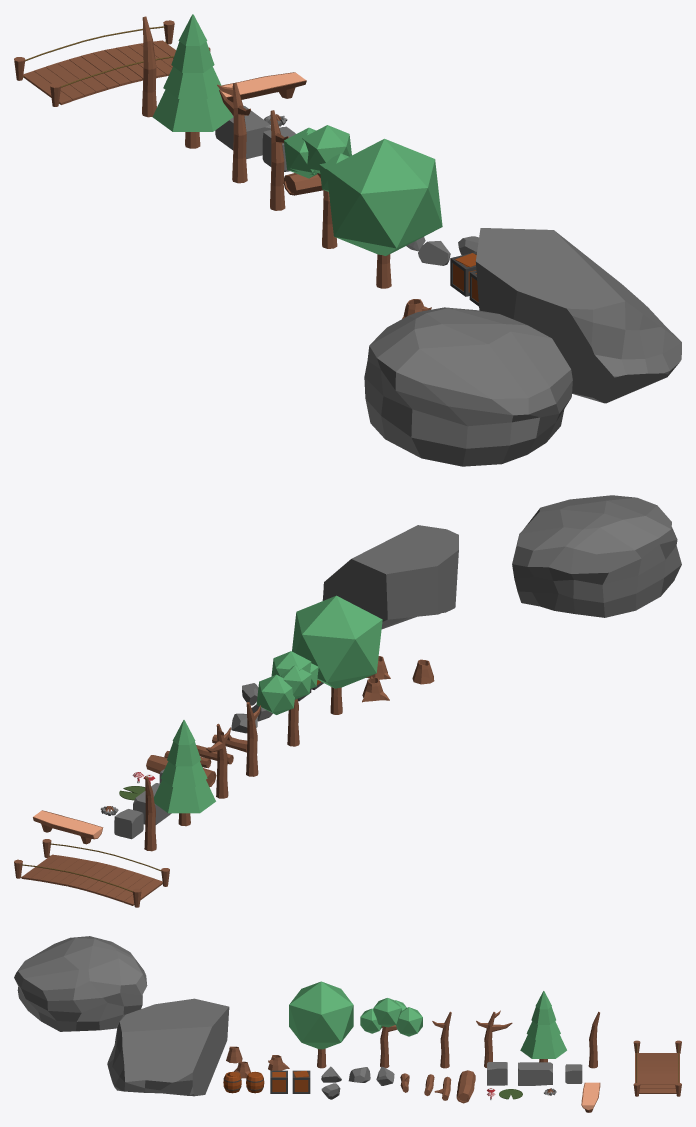
The model's file is Lowpoly Pack v2.fbx.
The picture shows the model from 3 angles, top to bottom: view 1: azimuth 30°, elevation 25°; view 2: azimuth 150°, elevation 25°; view 3: azimuth 270°, elevation 25°; orthographic projection. The views are drawn at different scales.
Parts seen in each view (by area): view 1: GiantRock002, GiantRock001, Tree001_Leaf, Tree003_Leaf, BridgeWoodenPlanks, TreeTrunk002, Tree002Leaf002, TreeBench001, Cubicrock002, TreeTrunk001, TreeTrunk003, Tree002Leaf004 (+3 smaller); view 2: GiantRock002, GiantRock001, Tree001_Leaf, BridgeWoodenPlanks, Tree003_Leaf, Tree002Leaf003, TreeBench001, TreeTrunk002, TreeTrunk001, Cubicrock003, TreeTrunk003, Tree002Leaf004 (+1 smaller); view 3: GiantRock002, GiantRock001, Tree001_Leaf, Tree003_Leaf, BridgeWoodenPlanks, Cubicrock002, Tree002Leaf002, Tree002Leaf003, TreeTrunk002, Cubicrock001, Cylinder.006, TreeTrunk001 (+11 smaller).
Part boxes in pixels (x1,y1,x2,y2): GiantRock002: (364,307,572,466); GiantRock001: (475,228,681,403); Tree001_Leaf: (326,138,442,255); Tree003_Leaf: (152,14,232,131); BridgeWoodenPlanks: (23,40,175,104); TreeTrunk002: (217,82,250,183); Tree002Leaf002: (302,125,351,173); TreeBench001: (221,72,306,102); Cubicrock002: (215,105,270,158); TreeTrunk001: (270,110,288,210); TreeTrunk003: (142,16,156,117); Tree002Leaf004: (287,132,315,175); GiantRock002: (512,495,681,617); GiantRock001: (322,525,458,629); Tree001_Leaf: (292,595,382,688); BridgeWoodenPlanks: (21,854,162,905); Tree003_Leaf: (154,720,215,813); Tree002Leaf003: (256,674,294,714); TreeBench001: (33,810,103,844); TreeTrunk002: (206,723,230,798); TreeTrunk001: (246,702,260,776); Cubicrock003: (114,809,143,839); TreeTrunk003: (144,776,156,851); Tree002Leaf004: (281,665,311,699); GiantRock002: (14,936,147,1031); GiantRock001: (107,998,229,1096); Tree001_Leaf: (289,981,353,1049); Tree003_Leaf: (520,991,566,1058); BridgeWoodenPlanks: (635,1053,679,1093); Cubicrock002: (518,1062,552,1085); Tree002Leaf002: (373,998,401,1027); Tree002Leaf003: (396,1007,422,1036); TreeTrunk002: (476,1010,512,1067); Cubicrock001: (487,1062,507,1085); Cylinder.006: (456,1070,475,1103); TreeTrunk001: (432,1011,451,1068).
Bounding box in the file's own units: 1253 × 536 × 3509.
